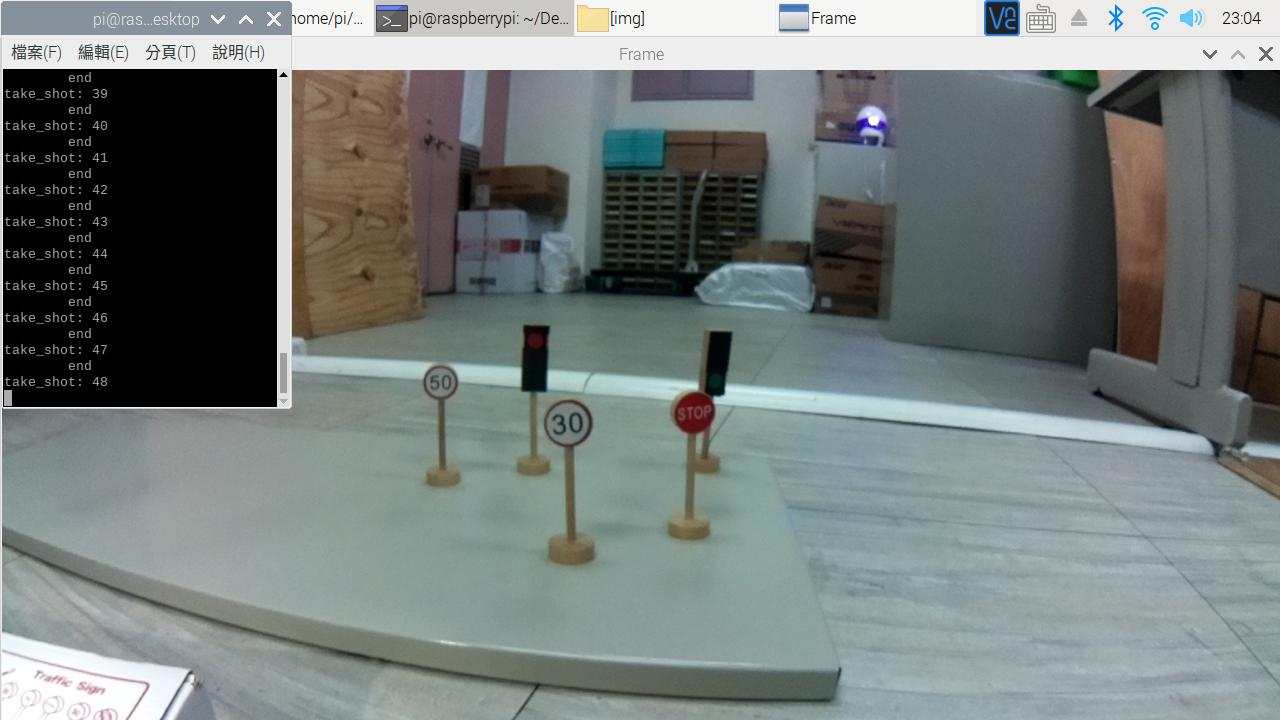Green: (705, 329, 735, 403)
Red: (519, 318, 553, 398)
Speed30: (545, 403, 596, 448)
Speed50: (422, 362, 459, 400)
Stop: (668, 387, 722, 440)
